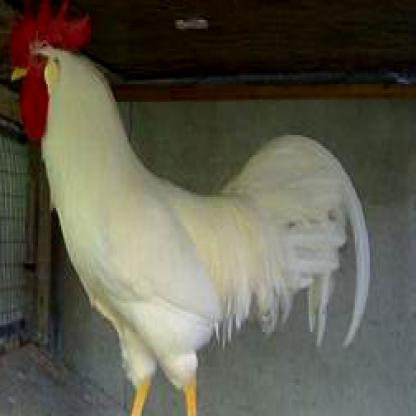chicken: (4, 0, 372, 414)
